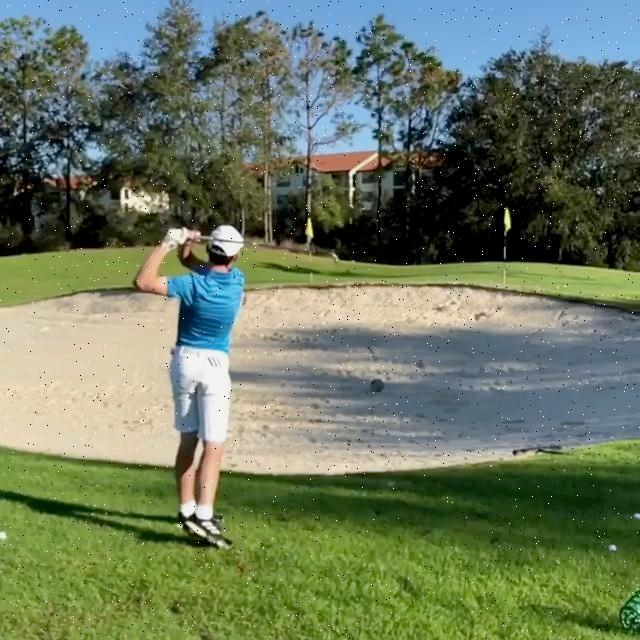ClubHead: (330, 253, 339, 264)
GolfBall: (608, 544, 618, 551), (0, 531, 6, 539)
